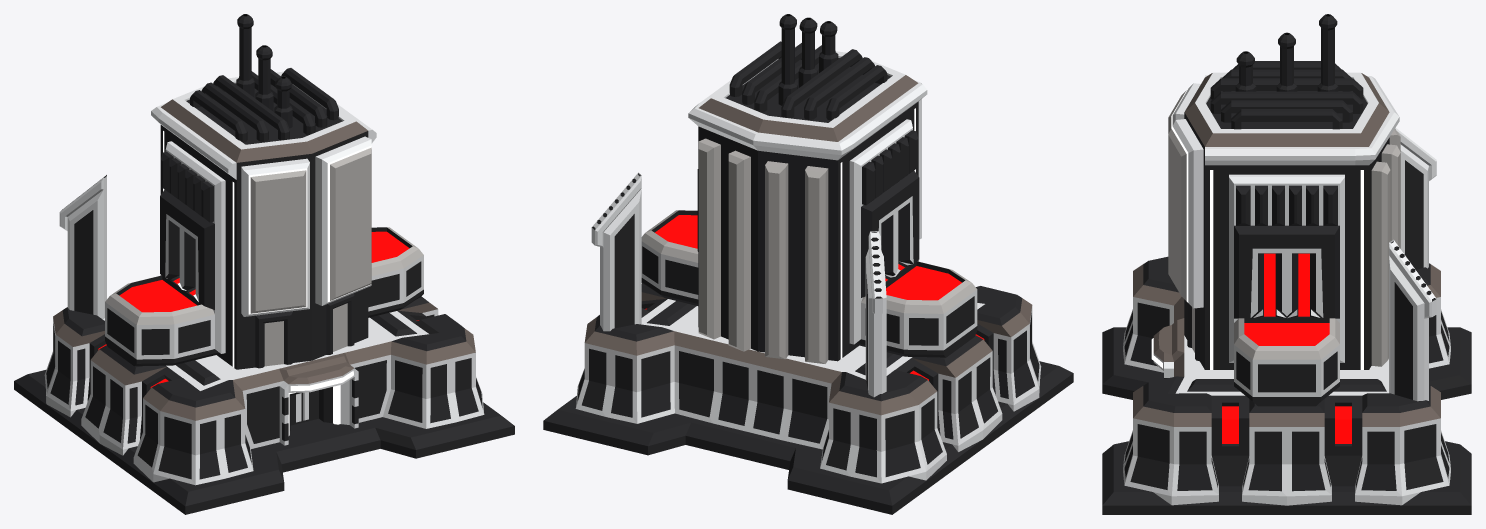
The model's file is smeltery.glb.
The picture shows the model from 3 angles, left to right: view 1: azimuth 30°, elevation 25°; view 2: azimuth 150°, elevation 25°; view 3: azimuth 270°, elevation 25°; orthographic projection. The views are drawn at different scales.
Parts seen in each view (by area): view 1: Smeltery_UpperBody, Smeltery_Body, Smeltery_Foundation, Smeltery_LavaPart, Smeltery_Chimney, Smeltery_Parts, Smeltery_Lava, Smeltery_Door; view 2: Smeltery_UpperBody, Smeltery_Body, Smeltery_Foundation, Smeltery_Chimney, Smeltery_LavaPart, Smeltery_Parts, Smeltery_Lava; view 3: Smeltery_UpperBody, Smeltery_Body, Smeltery_Foundation, Smeltery_Chimney, Smeltery_Parts, Smeltery_LavaPart, Smeltery_Lava.
Boxes of the visible parts, box(x1,y1,x2,y2) form: Smeltery_UpperBody: box(151, 71, 376, 369); Smeltery_Body: box(44, 296, 484, 485); Smeltery_Foundation: box(14, 370, 514, 514); Smeltery_LavaPart: box(105, 227, 423, 366); Smeltery_Chimney: box(59, 14, 292, 318); Smeltery_Parts: box(190, 68, 338, 142); Smeltery_Lava: box(98, 231, 418, 387); Smeltery_Door: box(290, 390, 318, 425); Smeltery_UpperBody: box(688, 46, 927, 363); Smeltery_Body: box(575, 283, 1041, 483); Smeltery_Foundation: box(543, 361, 1073, 514); Smeltery_Chimney: box(591, 14, 886, 397); Smeltery_LavaPart: box(641, 210, 977, 357); Smeltery_Parts: box(729, 41, 887, 120); Smeltery_Lava: box(645, 215, 984, 380); Smeltery_UpperBody: box(1168, 72, 1400, 369); Smeltery_Body: box(1123, 256, 1450, 505); Smeltery_Foundation: box(1102, 327, 1471, 514); Smeltery_Chimney: box(1235, 14, 1436, 401); Smeltery_Parts: box(1210, 61, 1363, 129); Smeltery_LavaPart: box(1234, 318, 1339, 406); Smeltery_Lava: box(1222, 253, 1351, 443).
Size of the model in its own units: 2000 by 2220 by 1800.
Materials: 1 (1 with a texture image).
